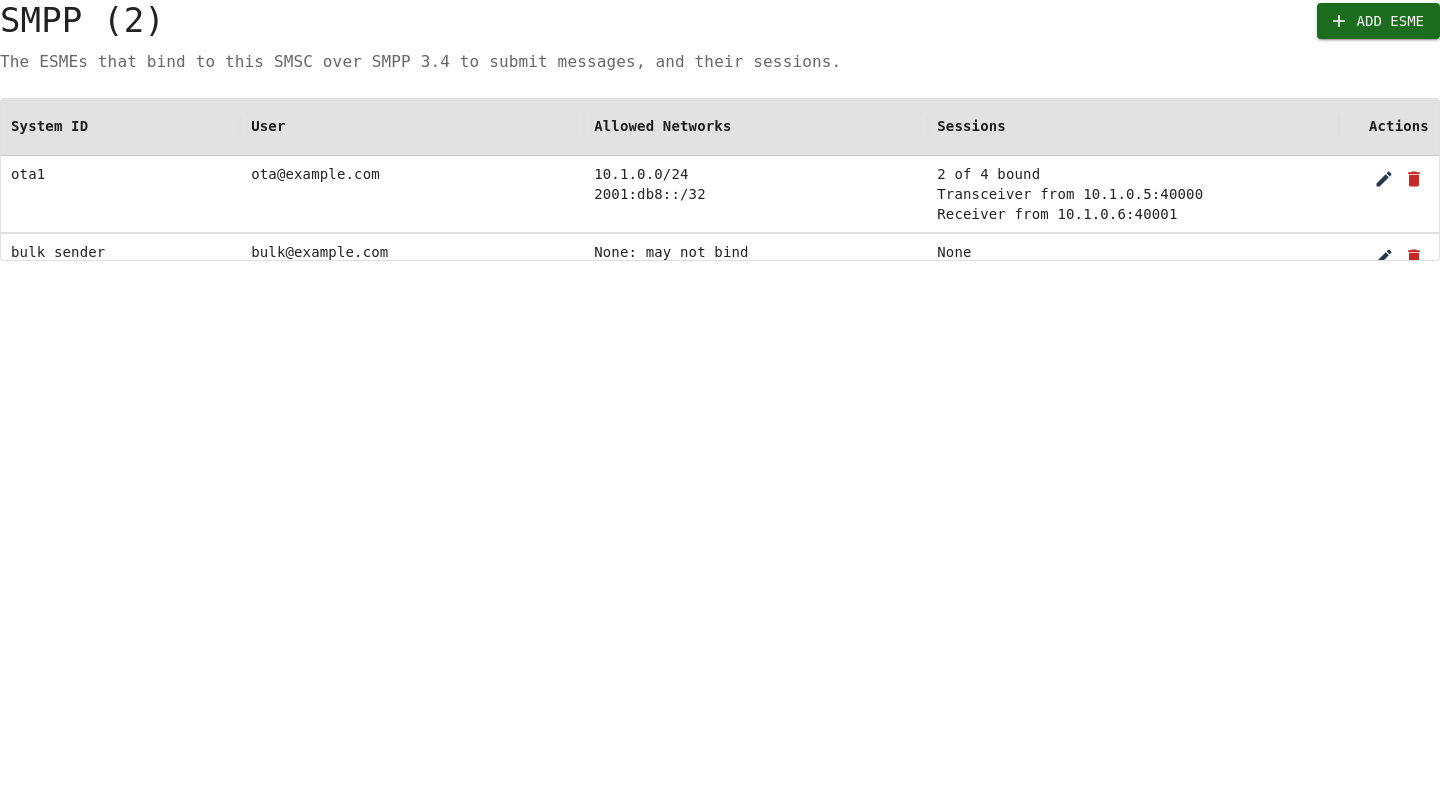
Test case: SMPP › deletes an ESME once confirmed
What coordinates should you click on to do the following:
click the button named "Delete ota1"
I would click on:
 (1414, 179)
Its box is [1399,164,1429,194].
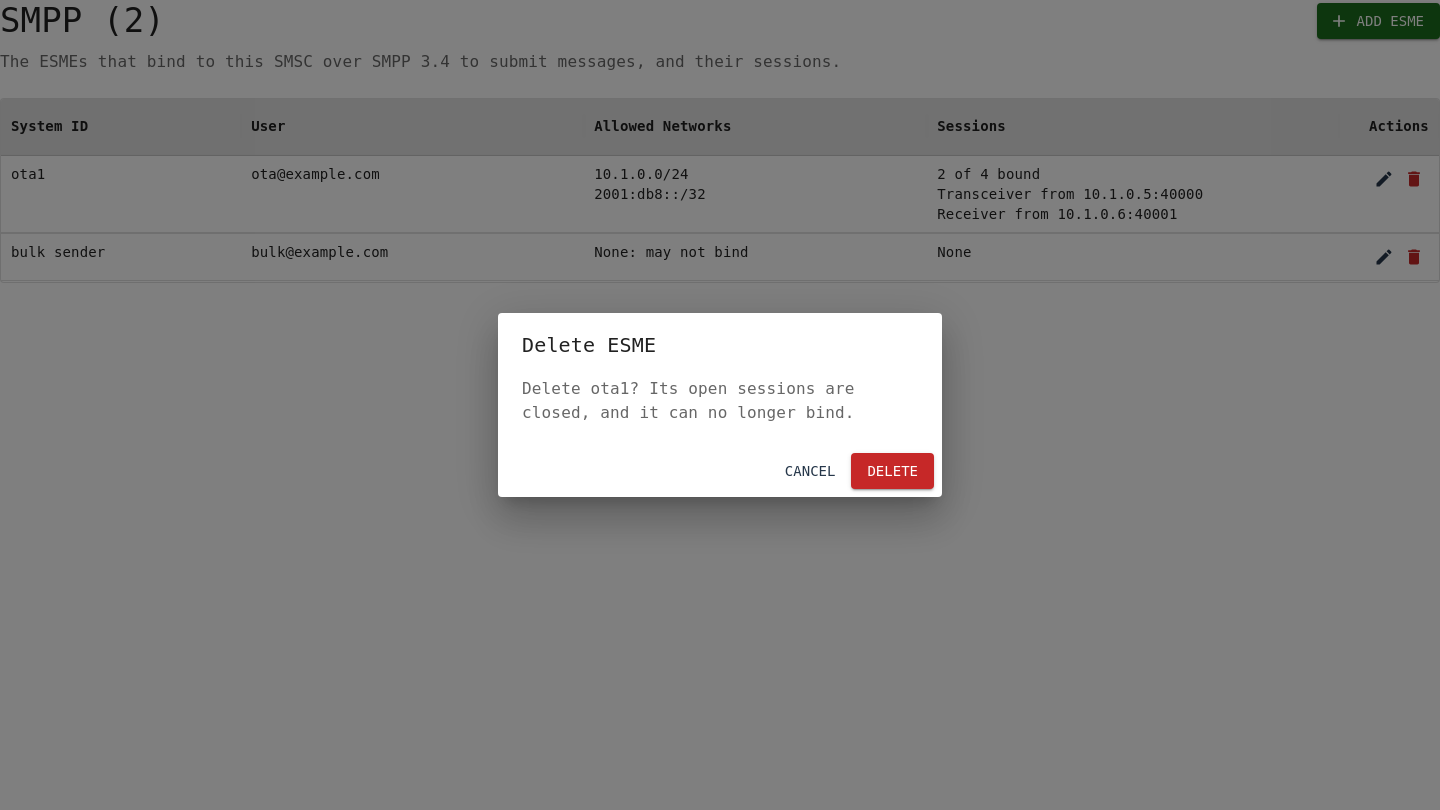
expect the dialog shows "Delete ota1?": met, box [522,379,855,422]
What coordinates should you click on to do the following:
click the button "Delete"
I would click on:
 (893, 471)
Its box is [851,453,934,489].
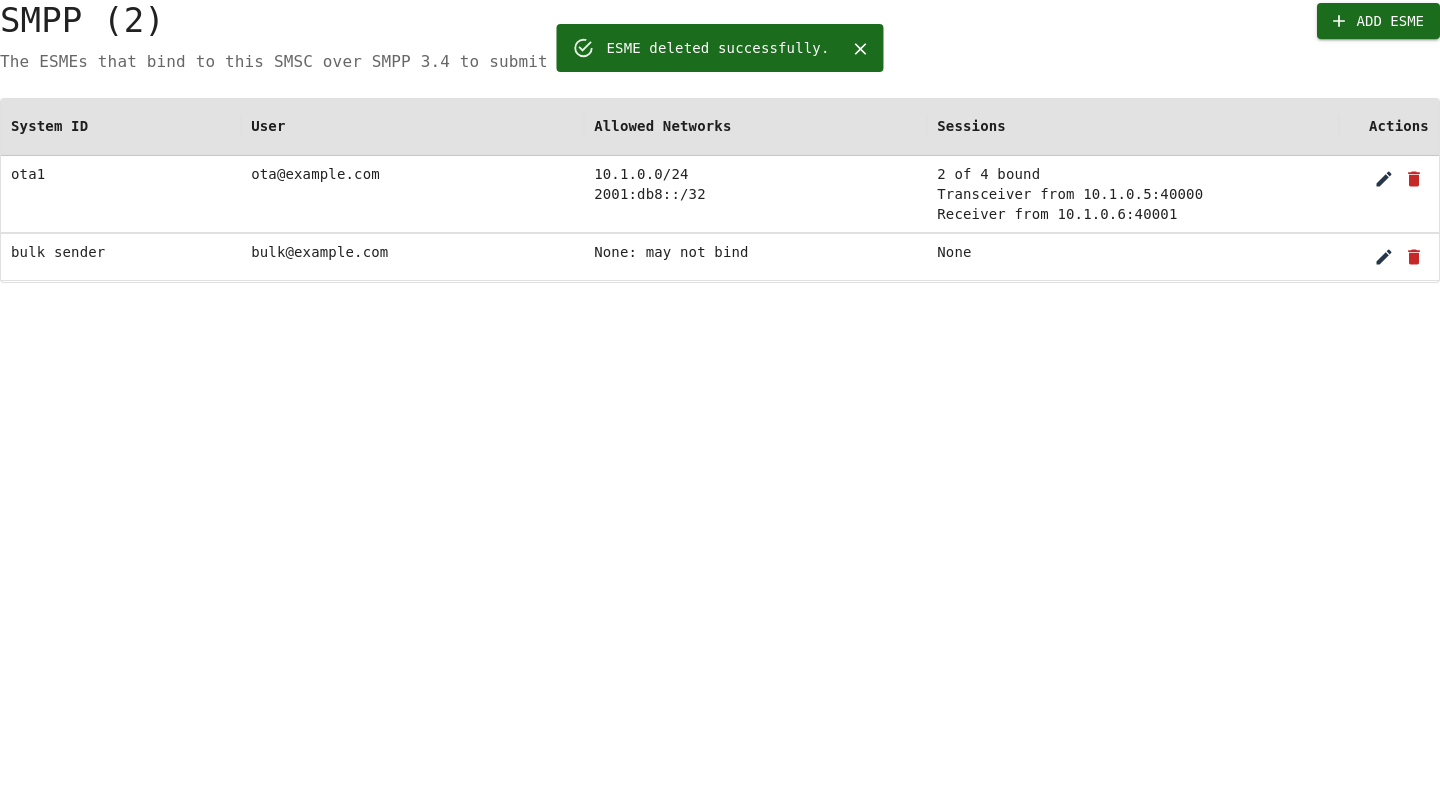
expect the text "ESME deleted successfully." is shown: met, box [606,40,830,56]
